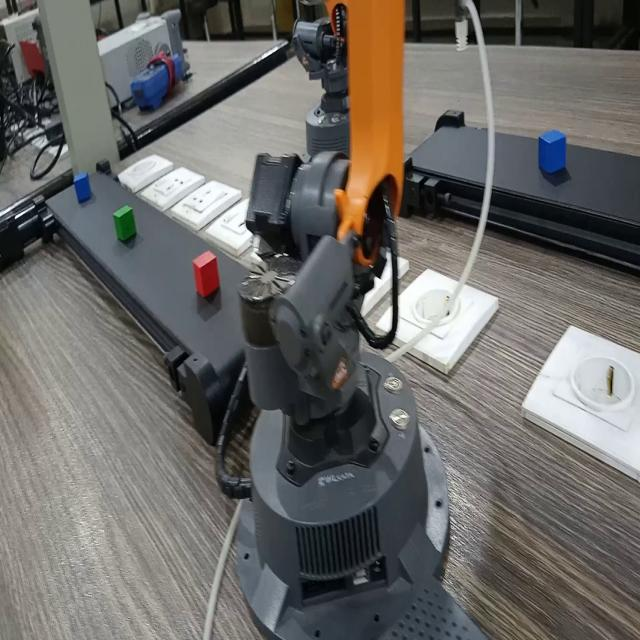cube: (535, 123, 573, 177), (189, 242, 223, 300), (112, 202, 138, 248), (70, 166, 94, 207)
